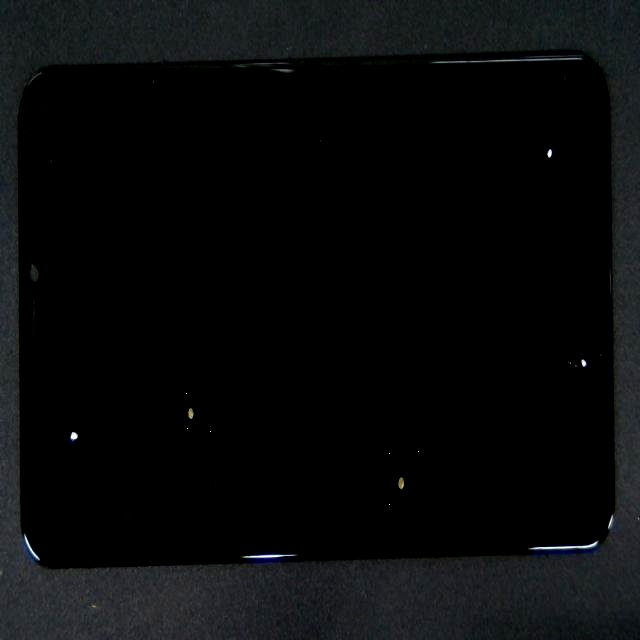stain: (192, 261, 579, 640), (280, 161, 640, 561), (245, 53, 640, 252), (87, 230, 263, 640), (18, 232, 101, 640)
